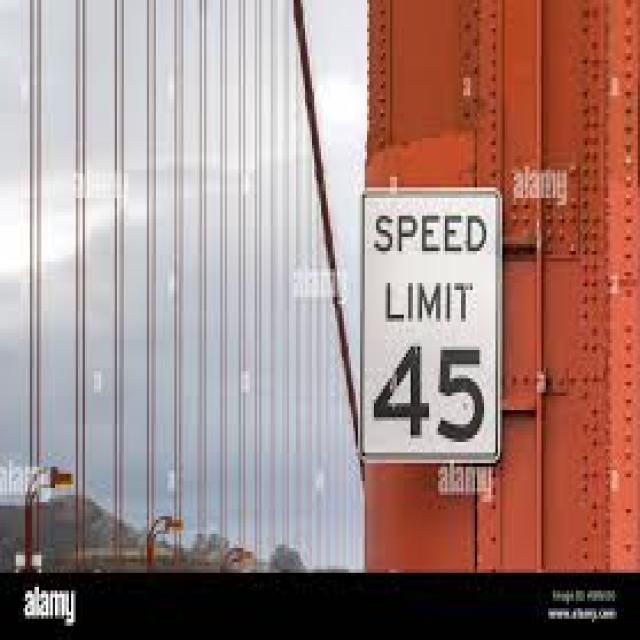speedLimit45: (356, 180, 504, 470)
